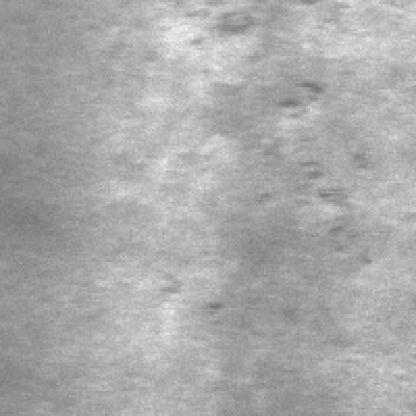rolled-in_scale: (274, 79, 372, 273), (167, 4, 341, 54)
